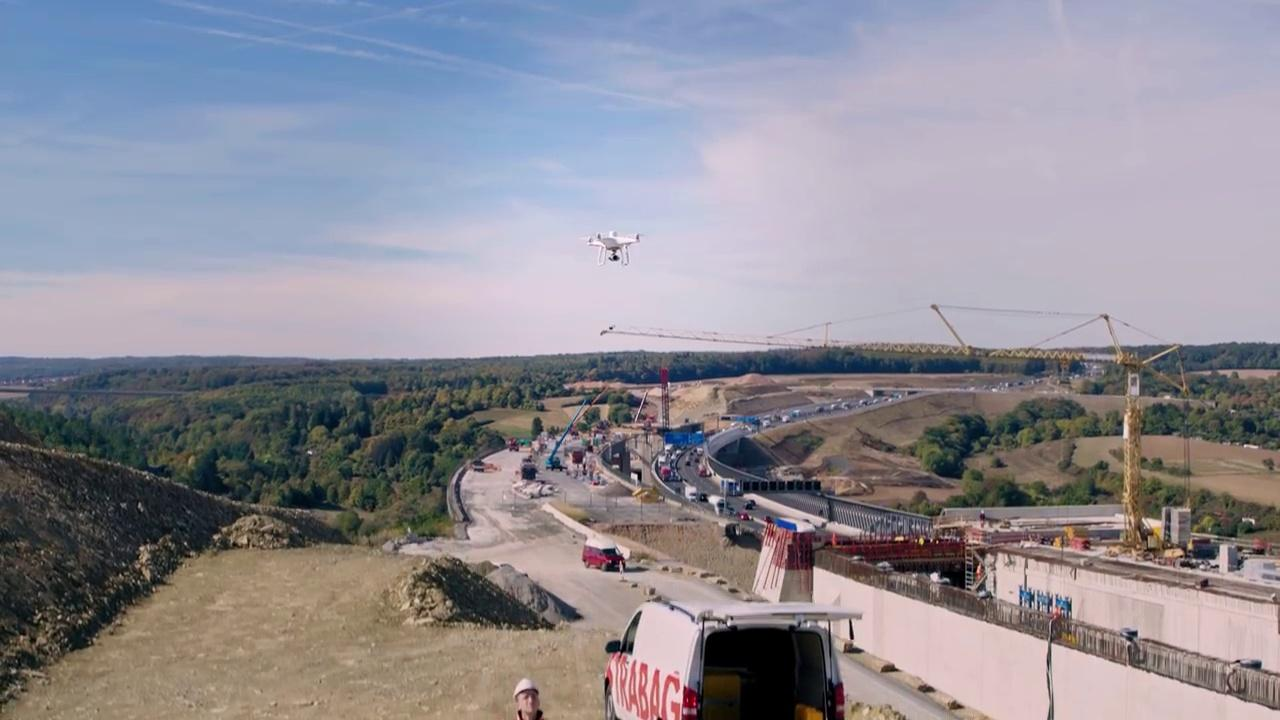drone: (582, 225, 647, 268)
